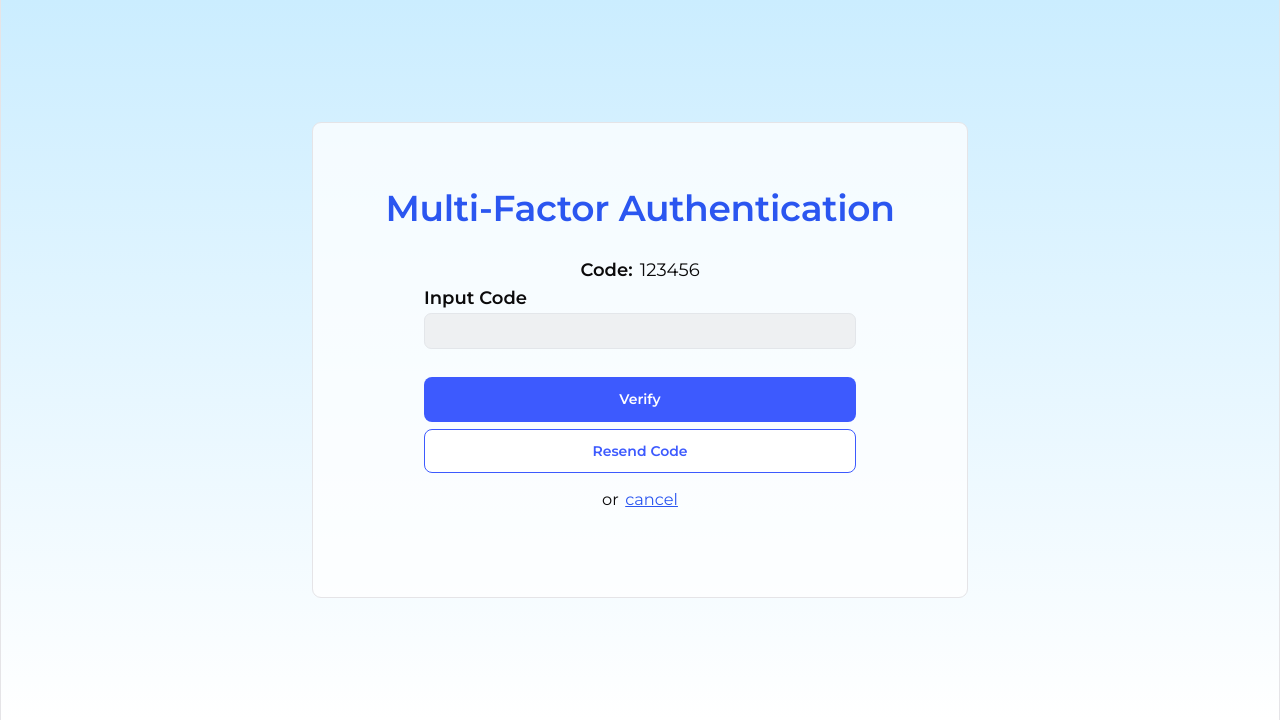
MfaPage (mocked useAuth) › shows a validation error when submitted with an empty code
This screenshot has width=1280, height=720.
Click the button "Verify" at (640, 399), box [424,377,856,422]
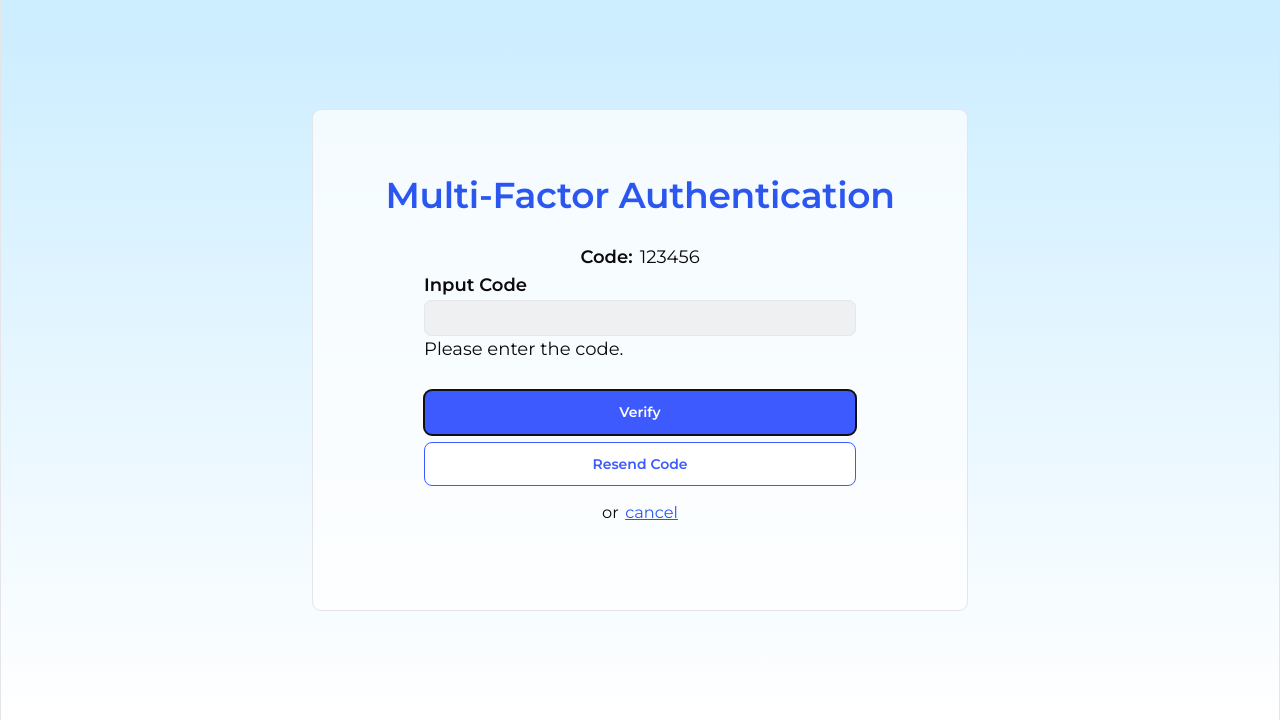
Expected: the text "Please enter the code." is shown, [424,338,623,360]
